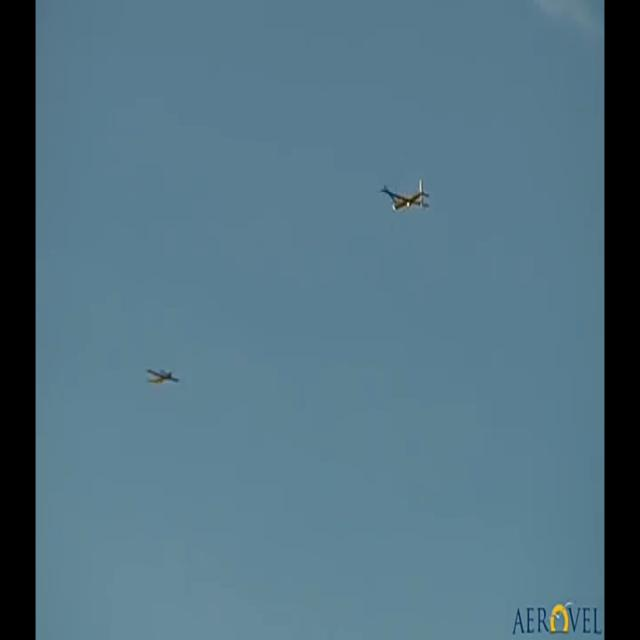iha: (377, 174, 430, 214), (145, 366, 181, 387)
